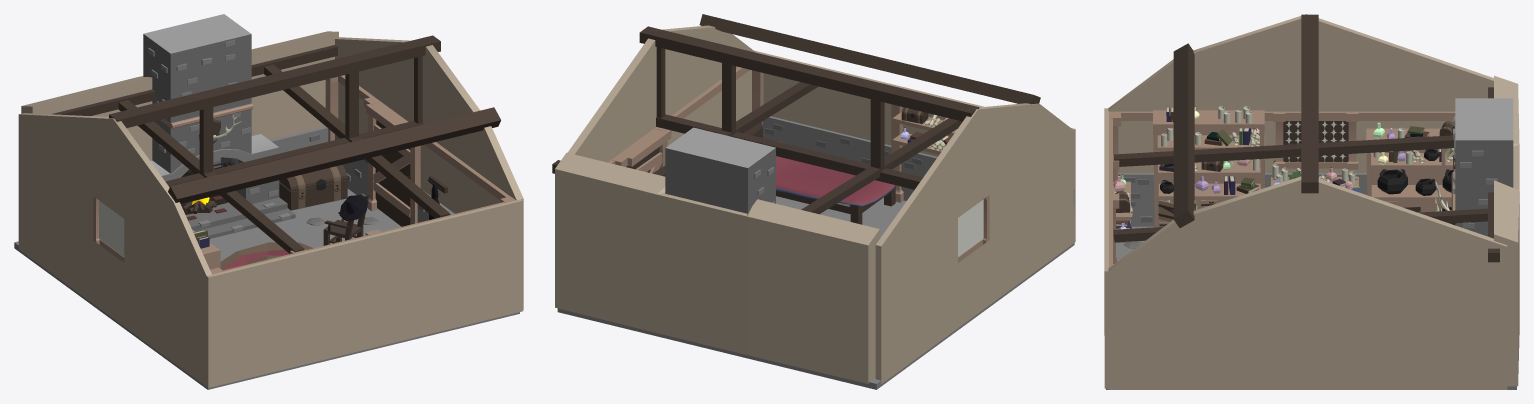
The model's file is INTERIOR21.glb.
3 views of the same model, side by side, from view 1: azimuth 30°, elevation 25°; view 2: azimuth 150°, elevation 25°; view 3: azimuth 270°, elevation 25° (orthographic). The views are drawn at different scales.
Visible parts, largest first — view 1: polySurface1623_leather_0; view 2: polySurface1623_leather_0; view 3: polySurface1623_leather_0.
Part boxes in pixels (box(x1,y1,x2,y2)): polySurface1623_leather_0: box(14, 14, 523, 389); polySurface1623_leather_0: box(552, 14, 1075, 389); polySurface1623_leather_0: box(1104, 14, 1519, 389).
Size of the model in its own units: 7.67 by 4.55 by 7.98.
